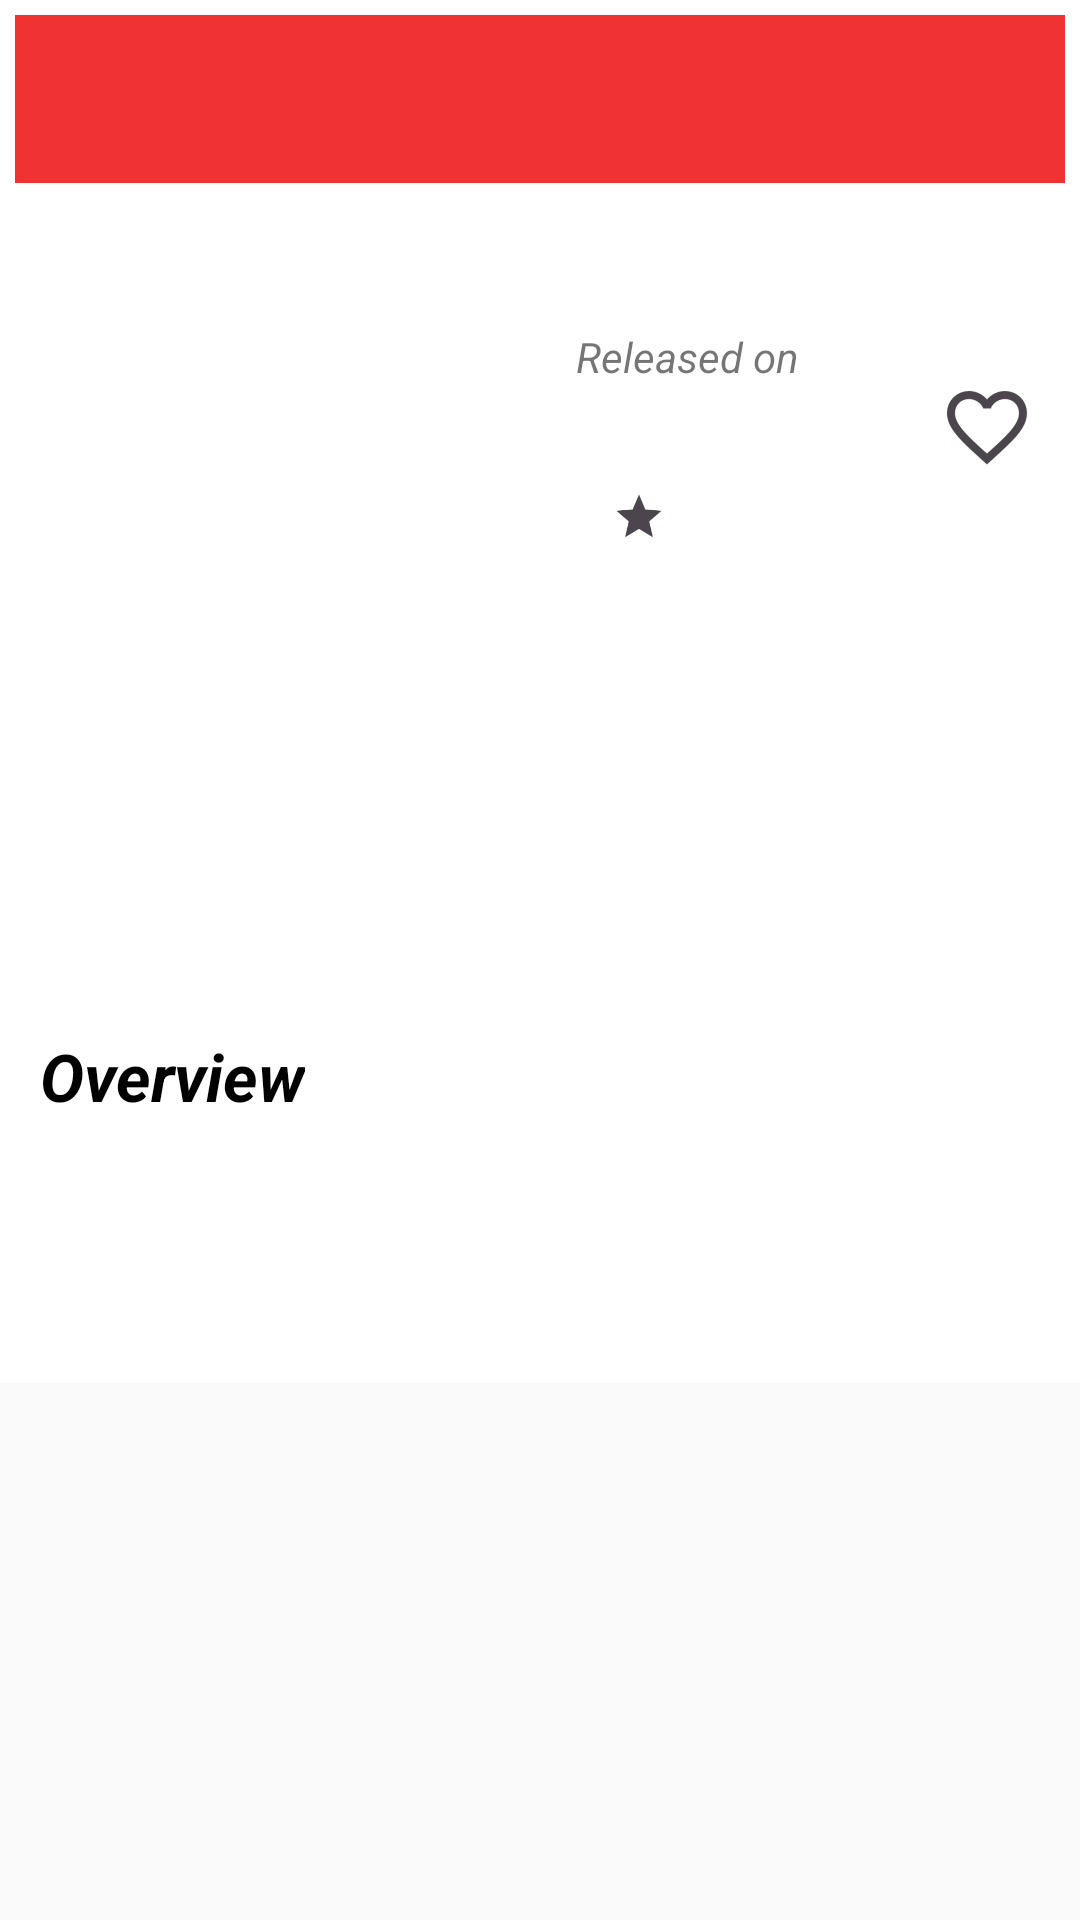

Named icons in this screenshot (1080px x 1920px) and their centers, (x=x, y=y):
favourite off: (x=987, y=427)
Star Image: (x=639, y=516)
